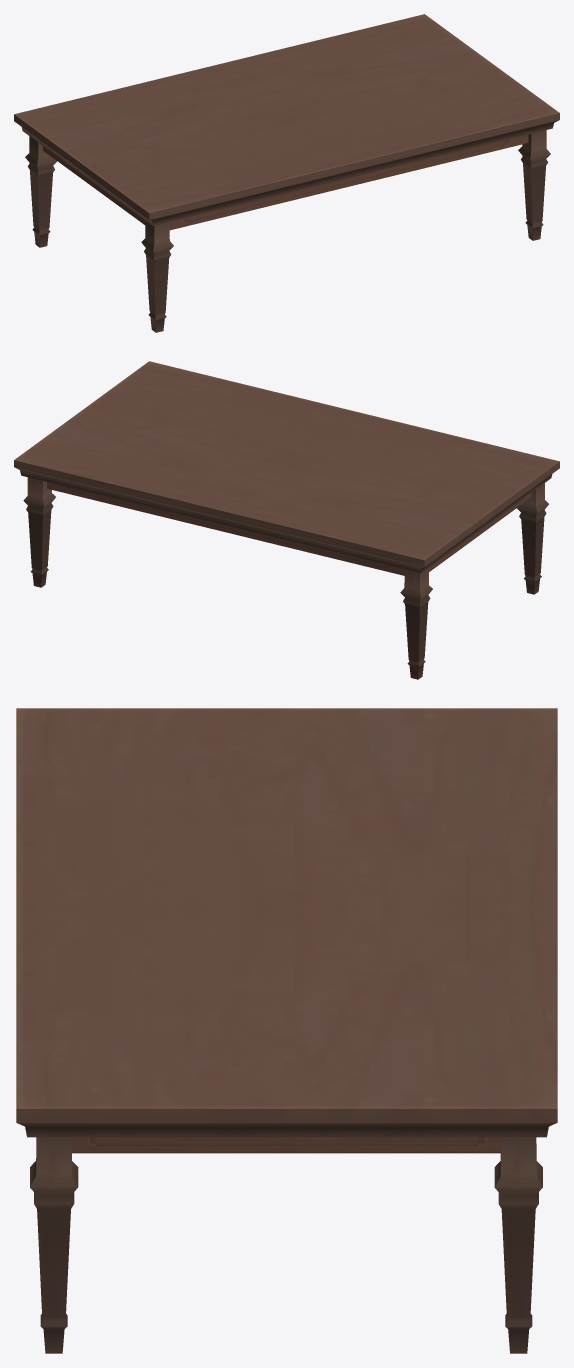
Rendered from Homeworld_Interior_Md_Table_Table_03_Vo.fbx.
3 views of the same model, one above another, from view 1: azimuth 30°, elevation 25°; view 2: azimuth 150°, elevation 25°; view 3: azimuth 270°, elevation 25° (orthographic). The views are drawn at different scales.
Visible parts, largest first — view 1: Indoor_MdProps_Library_Table01_Vo; view 2: Indoor_MdProps_Library_Table01_Vo; view 3: Indoor_MdProps_Library_Table01_Vo.
Part boxes in pixels (left/top/right/bottom): Indoor_MdProps_Library_Table01_Vo: left=14, top=14, right=559, bottom=332; Indoor_MdProps_Library_Table01_Vo: left=14, top=361, right=559, bottom=679; Indoor_MdProps_Library_Table01_Vo: left=16, top=708, right=557, bottom=1353.
Size of the model in its own units: 2.62 by 0.781 by 1.49.
